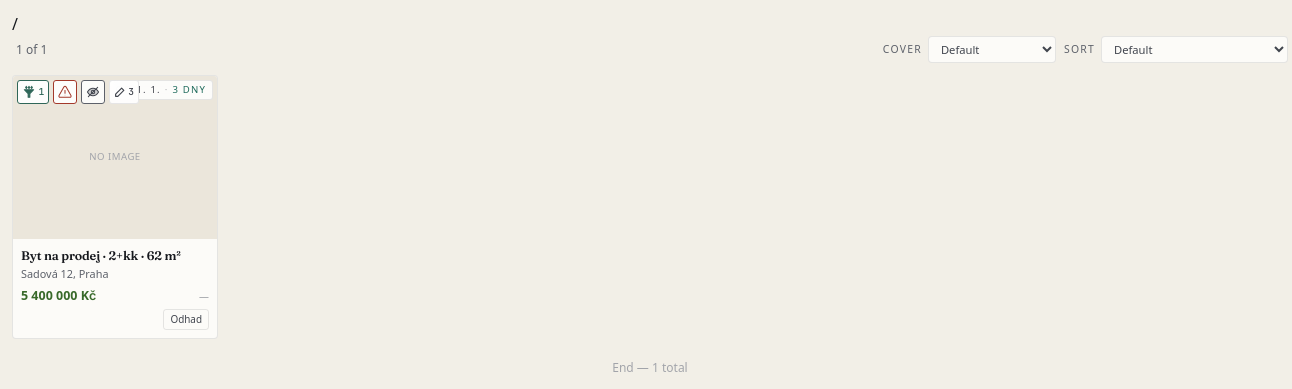
it: <ListingCards> merge mode keeps the marks, read-only › turns a failed collection read into a retry, never "in no collection"
The width and height of the screenshot is (1292, 389).
Click the button named "Kolekce se nepodařilo načíst": (65, 92) [53, 80, 77, 104]
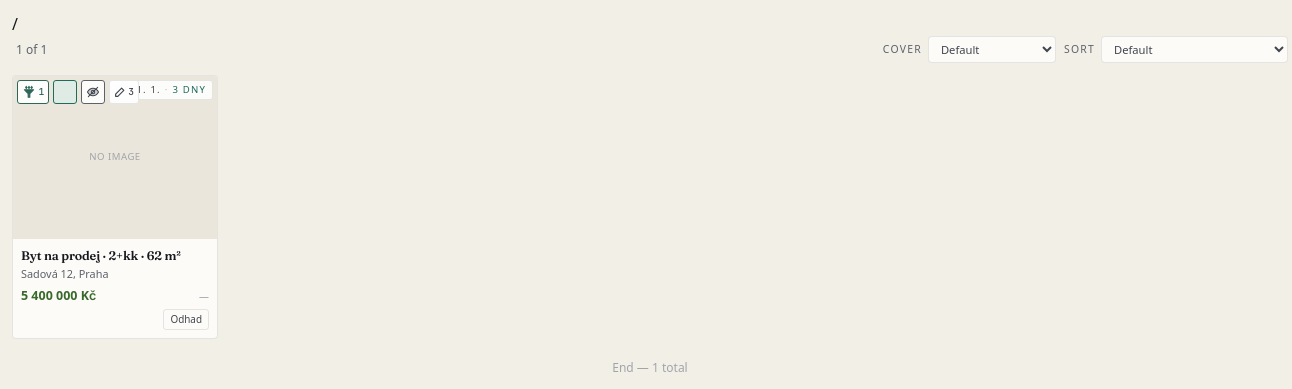
Expected: the button named "Uložit do kolekce" is shown, [53, 80, 77, 104]
